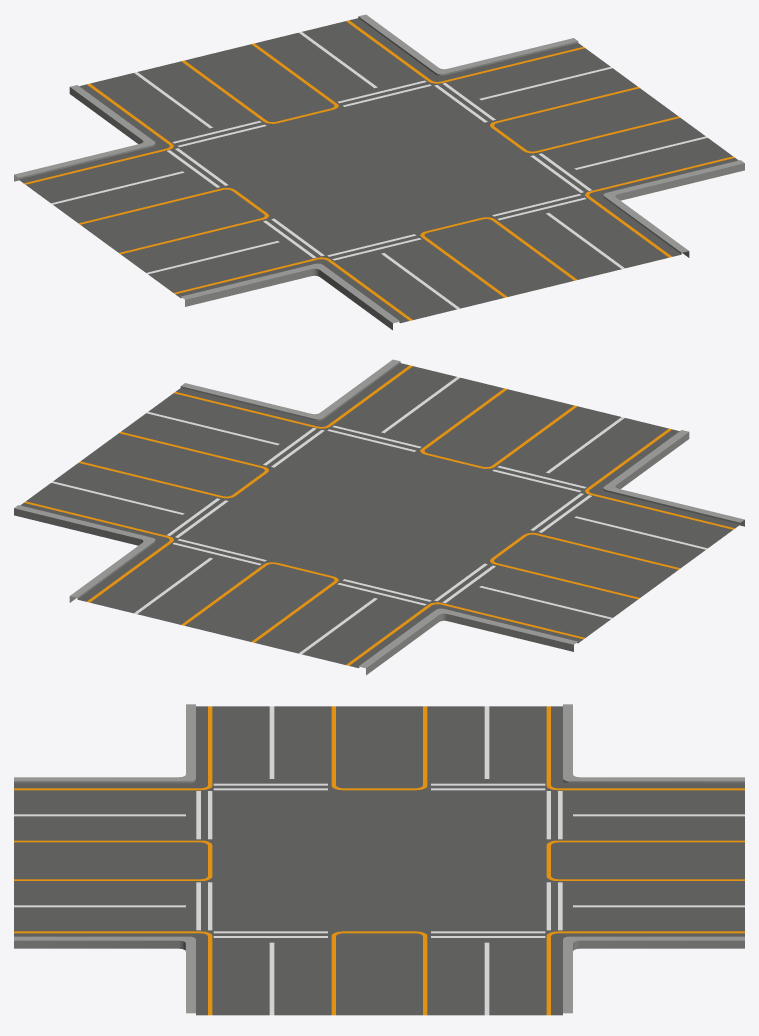
Rendered from Road_B_2L_1_6.fbx.
3 views of the same model, one above another, from view 1: azimuth 30°, elevation 25°; view 2: azimuth 150°, elevation 25°; view 3: azimuth 270°, elevation 25° (orthographic). The views are drawn at different scales.
Parts seen in each view (by area): view 1: Road_B_2L_1_6; view 2: Road_B_2L_1_6; view 3: Road_B_2L_1_6.
Part boxes in pixels (x1,y1,x2,y2): Road_B_2L_1_6: [14, 14, 744, 330]; Road_B_2L_1_6: [14, 359, 744, 675]; Road_B_2L_1_6: [14, 704, 744, 1015].
Size of the model in its own units: 3400 by 41.49 by 3400.
